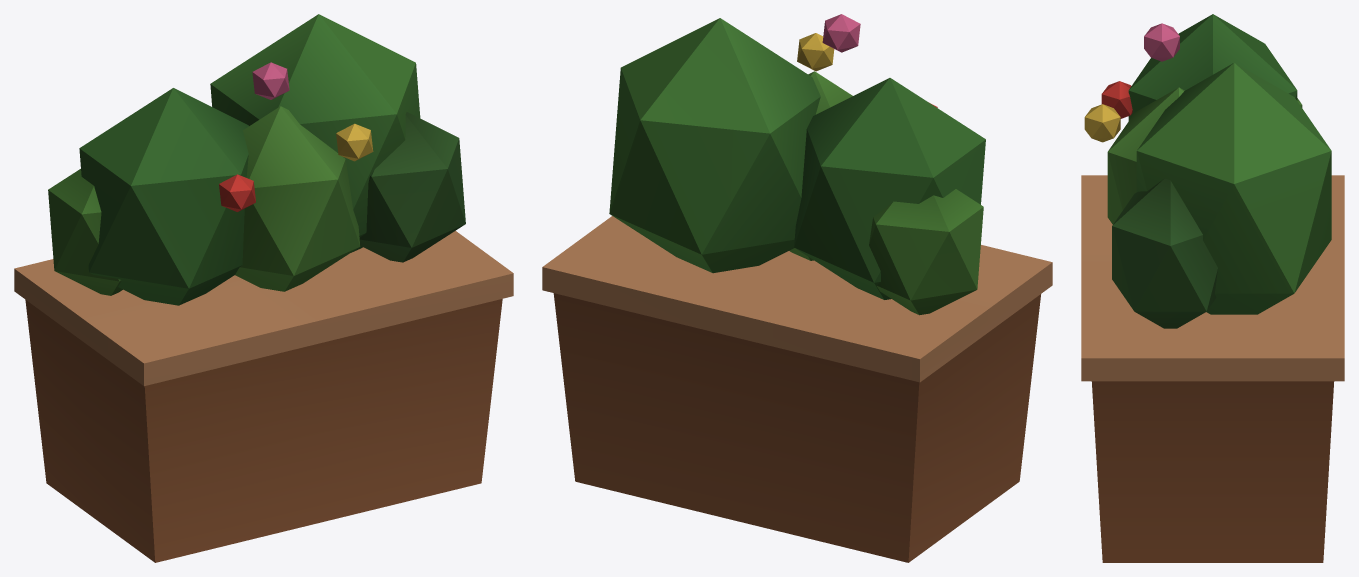
Rendered from planter_lo-DcOKyjD0.glb.
3 views of the same model, side by side, from view 1: azimuth 30°, elevation 25°; view 2: azimuth 150°, elevation 25°; view 3: azimuth 270°, elevation 25° (orthographic). The views are drawn at different scales.
Bounding box in the file's own units: 1.04 × 1.17 × 0.62.
